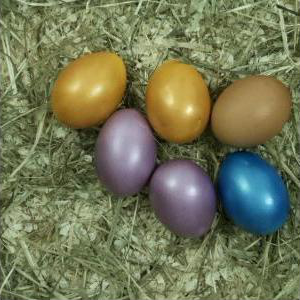egg: (218, 152, 291, 237), (212, 74, 292, 148), (51, 52, 128, 128), (149, 159, 217, 238), (95, 108, 156, 195), (146, 62, 211, 143)
